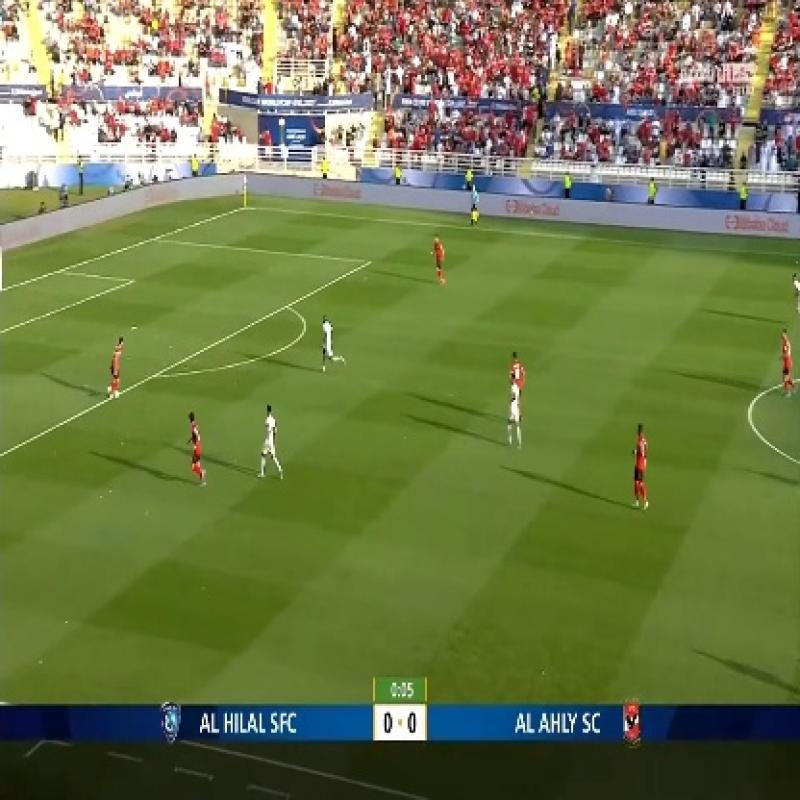1: (240, 202, 252, 210)
10: (280, 296, 296, 314)
11: (146, 360, 166, 384)
2: (150, 233, 158, 242)
3: (54, 260, 71, 278)
7: (126, 273, 136, 285)
9: (358, 253, 380, 273)
c: (739, 396, 763, 420)
